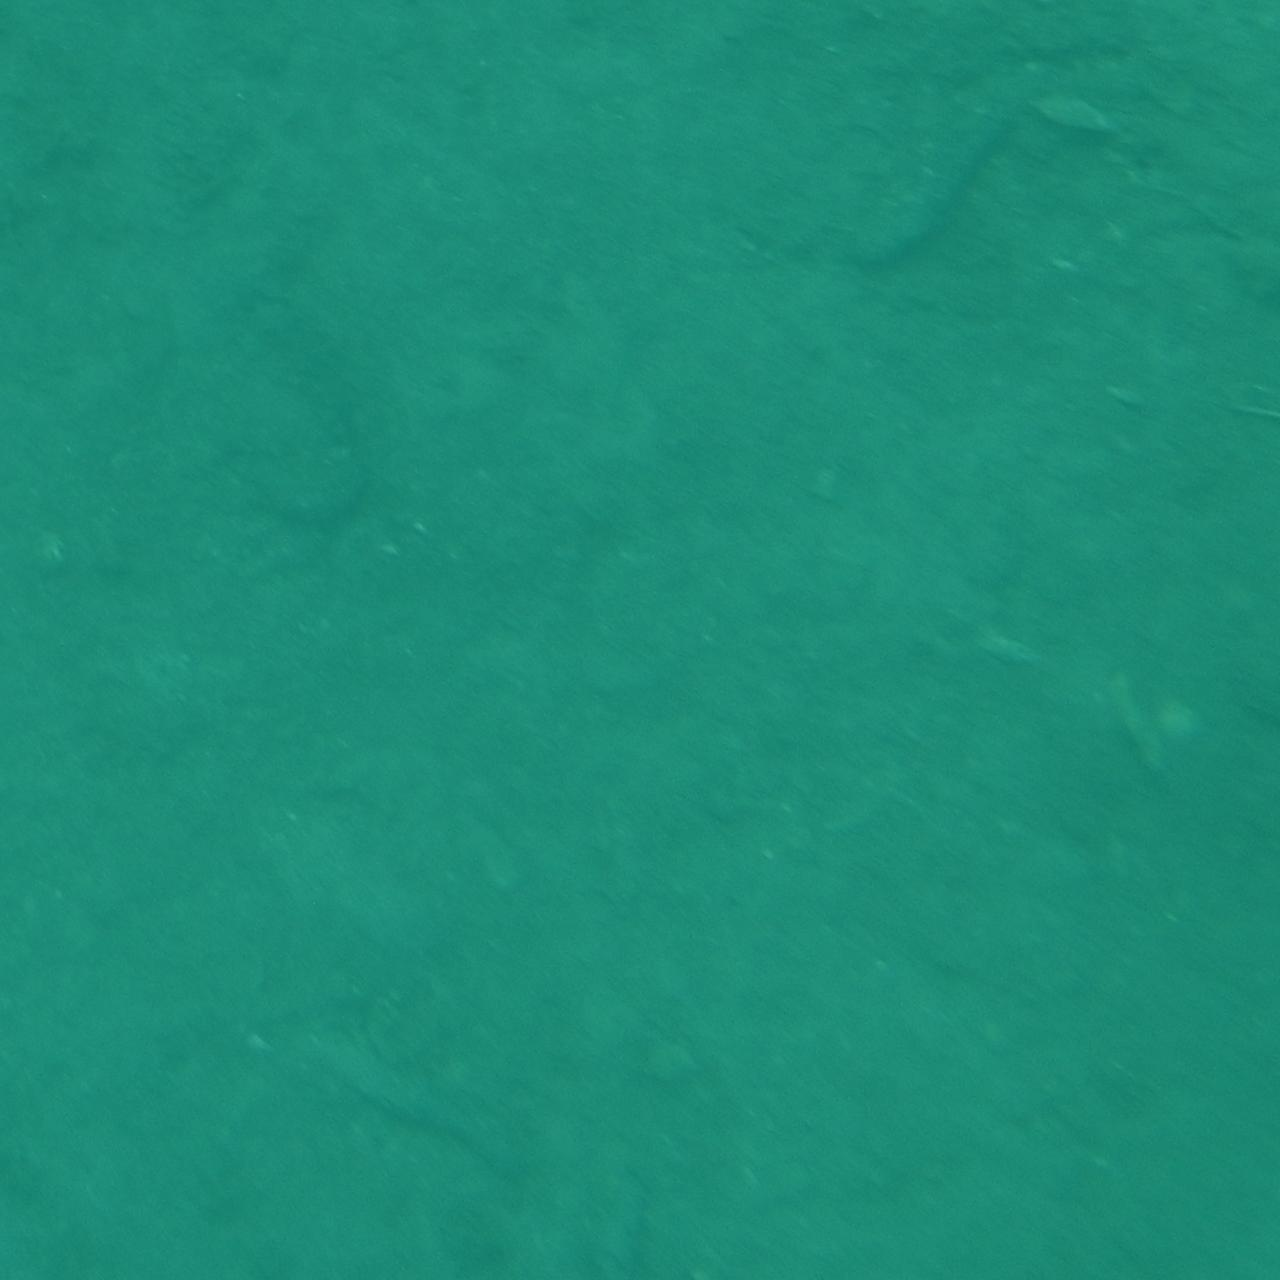Holothuria tubulosa: (281, 1001, 573, 1214), (828, 61, 1105, 284), (234, 275, 394, 565)
